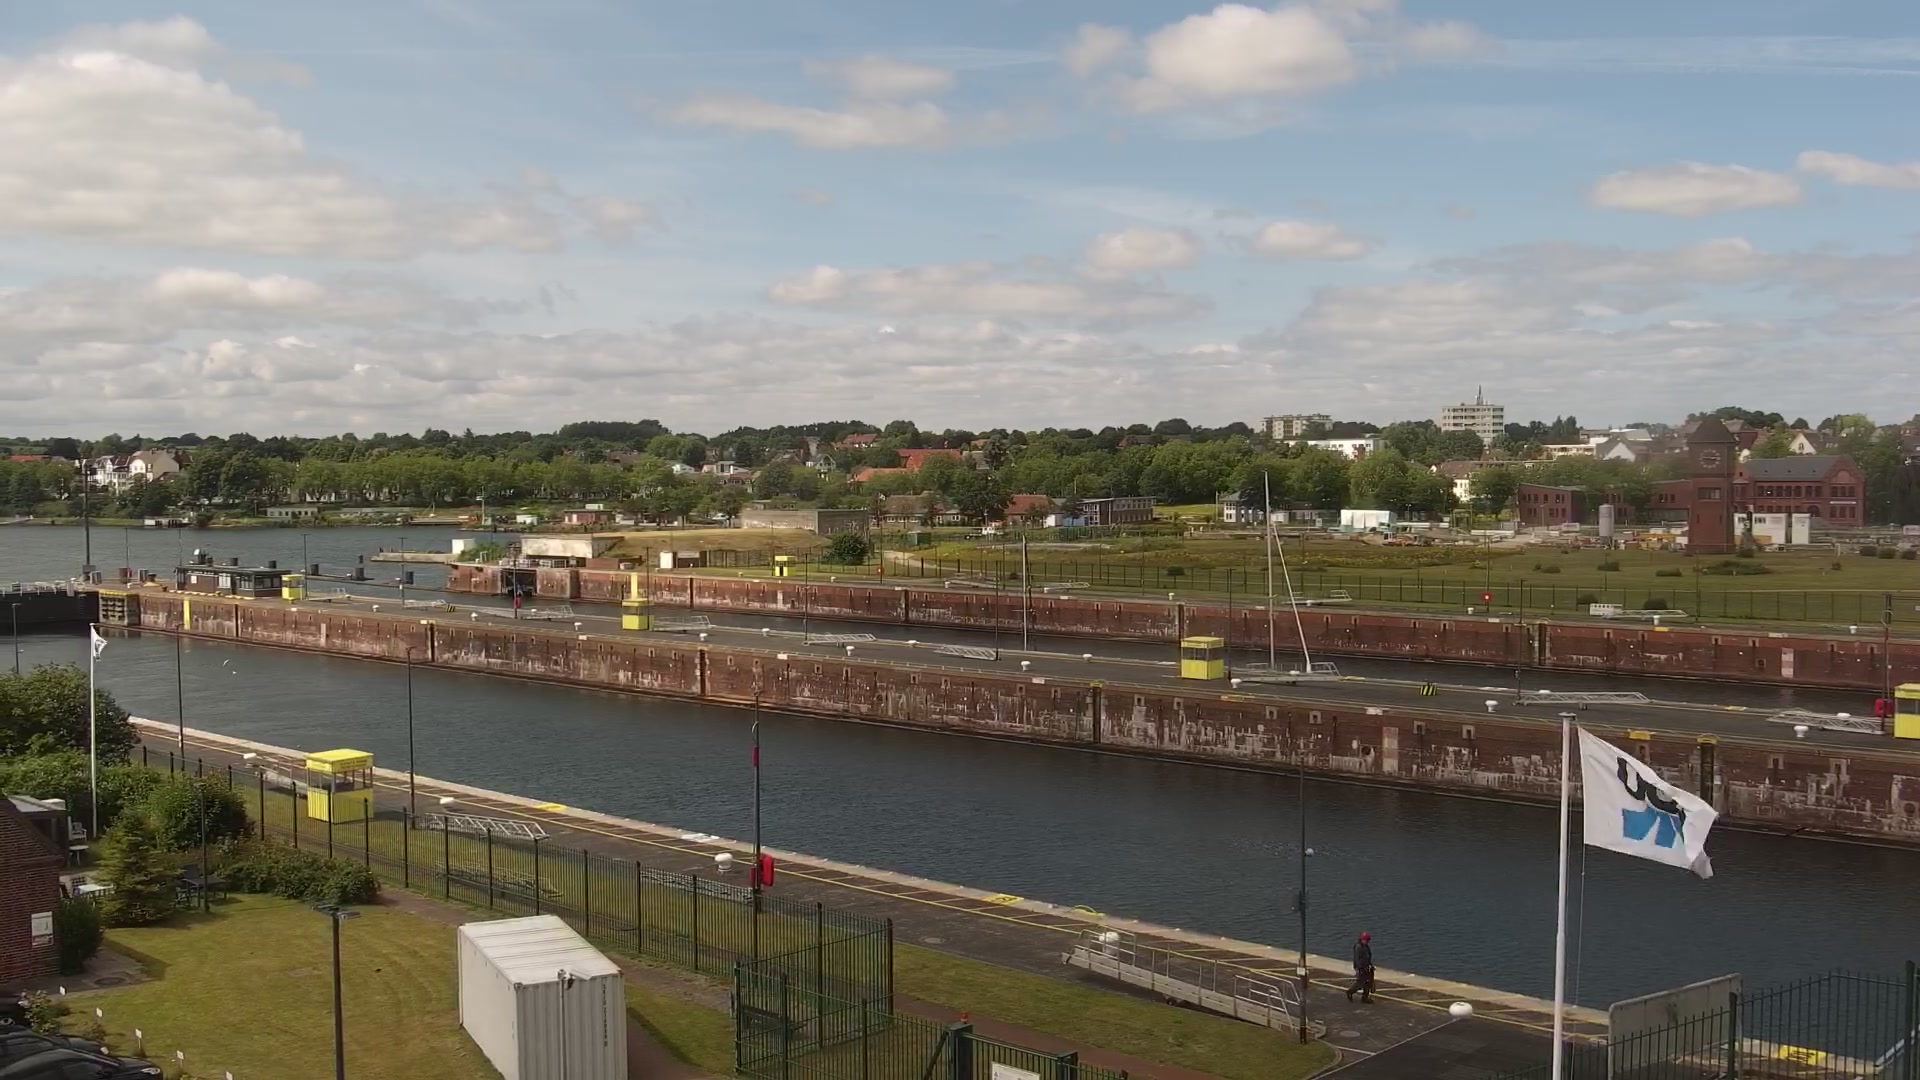human: (1346, 930, 1375, 1003)
land: (1, 1046, 164, 1079), (1, 1030, 110, 1064), (1, 985, 33, 1029), (1404, 534, 1431, 547), (1381, 531, 1403, 545), (711, 512, 730, 520)
sea: (1219, 468, 1339, 678)
